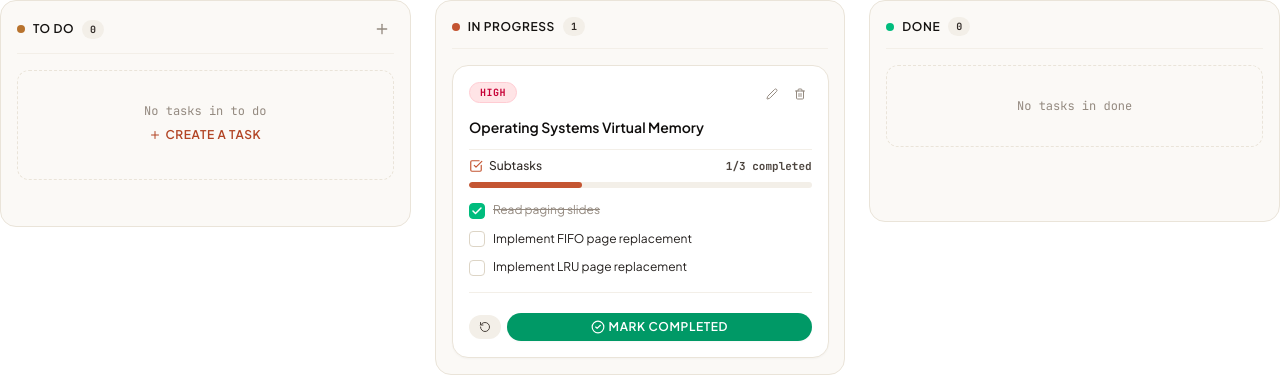
Test: Phase 4C.1: Inline Subtask Completion on Kanban Cards › allows marking a subtask complete/incomplete directly from the card and updates progress immediately
The width and height of the screenshot is (1280, 392).
Expected: the text "1/3 completed" is shown, [726, 159, 811, 174]
# Click checkbox for subtask 2
Click the checkbox named "mark \"implement fifo page replacement\" as complete" at (477, 239), box [469, 231, 485, 247]
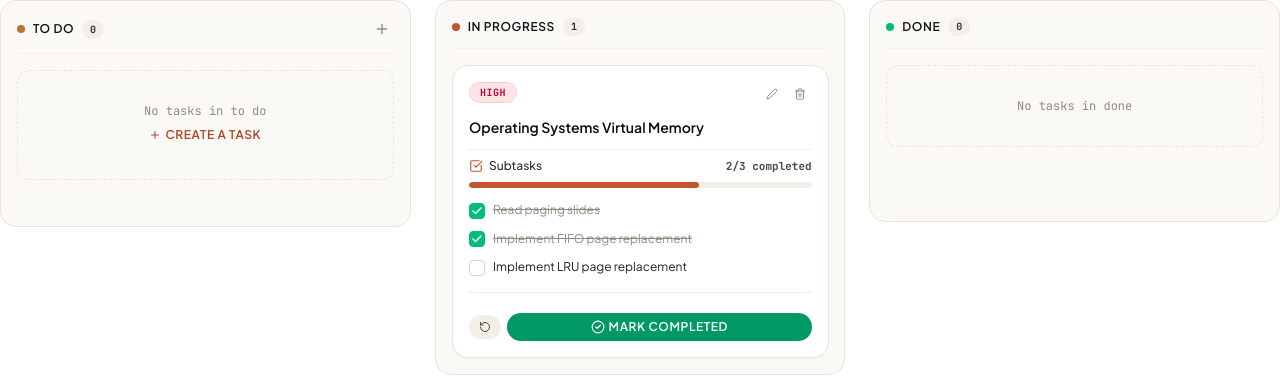
Expected: the text "2/3 completed" is shown, [726, 159, 811, 174]
# Click again to mark incomplete
Click the checkbox named "mark \"implement fifo page replacement\" as complete" at (477, 239), box [469, 231, 485, 247]
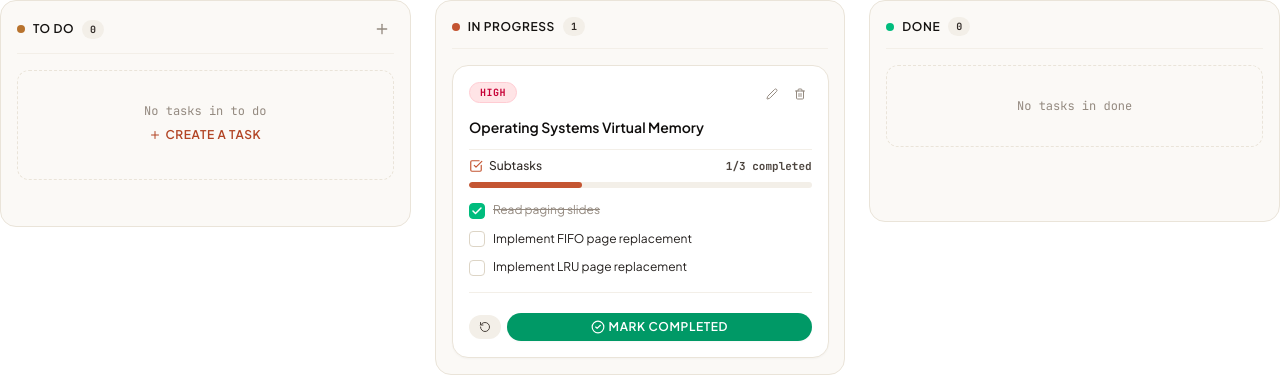
Expected: the text "1/3 completed" is shown, [726, 159, 811, 174]
